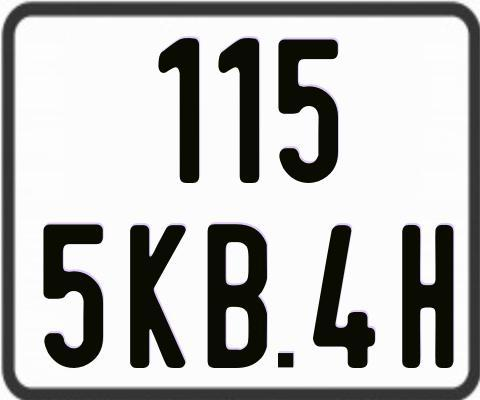1: (156, 35, 198, 183), (217, 38, 258, 186)
4: (313, 223, 377, 367)
5: (43, 222, 109, 368), (275, 39, 338, 183)
B: (205, 223, 269, 373)
H: (400, 223, 452, 370)
K: (130, 224, 189, 371)
